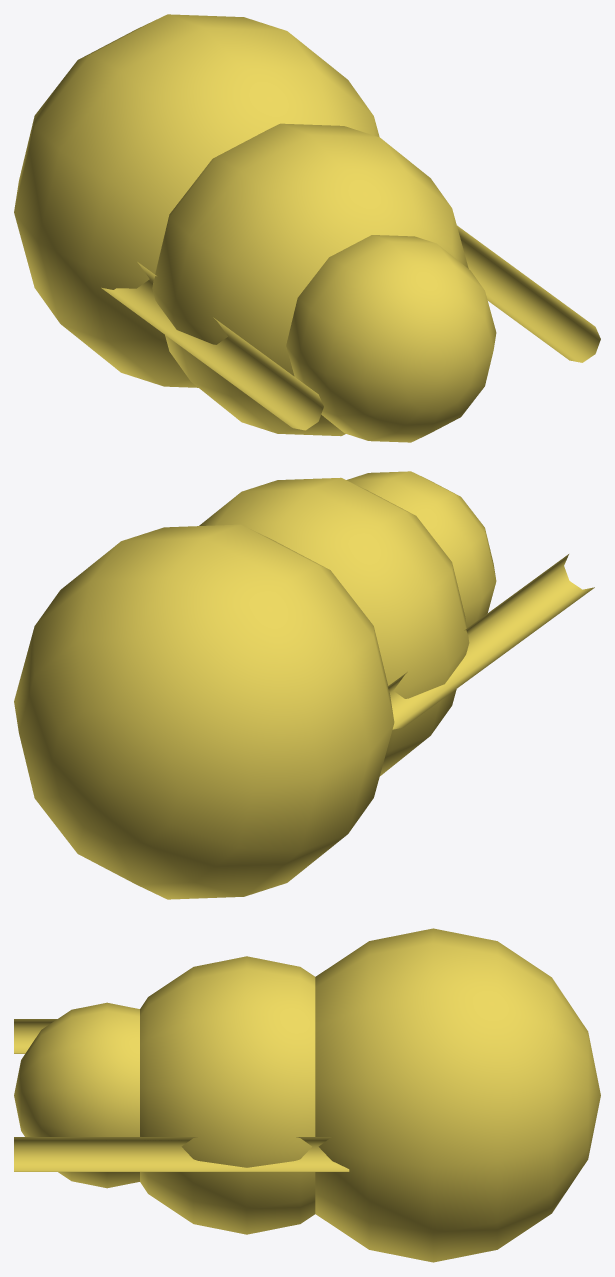
3 views of the same model, one above another, from view 1: azimuth 30°, elevation 25°; view 2: azimuth 150°, elevation 25°; view 3: azimuth 270°, elevation 25° (orthographic). The views are drawn at different scales.
Parts seen in each view (by area): view 1: Stag Beetle; view 2: Stag Beetle; view 3: Stag Beetle.
Part boxes in pixels (left/top/right/bottom): Stag Beetle: left=14, top=14, right=600, bottom=442; Stag Beetle: left=14, top=471, right=594, bottom=899; Stag Beetle: left=14, top=928, right=600, bottom=1262.
Bounding box in the file's own units: 0.396 × 0.396 × 0.693.
